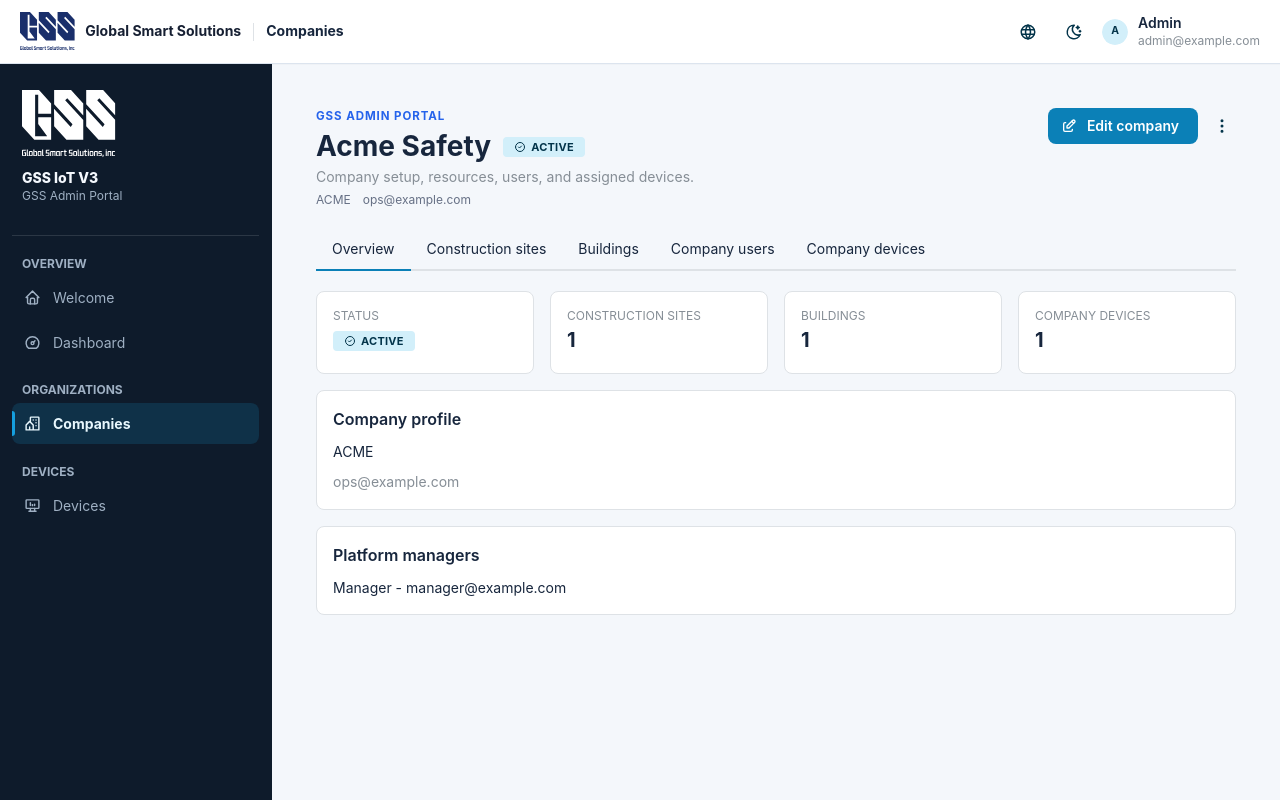
Test case: auth routing › keeps the Admin company workspace mounted while child sections change
Click the tab "Construction sites" at (486, 250), box [411,228,562,270]
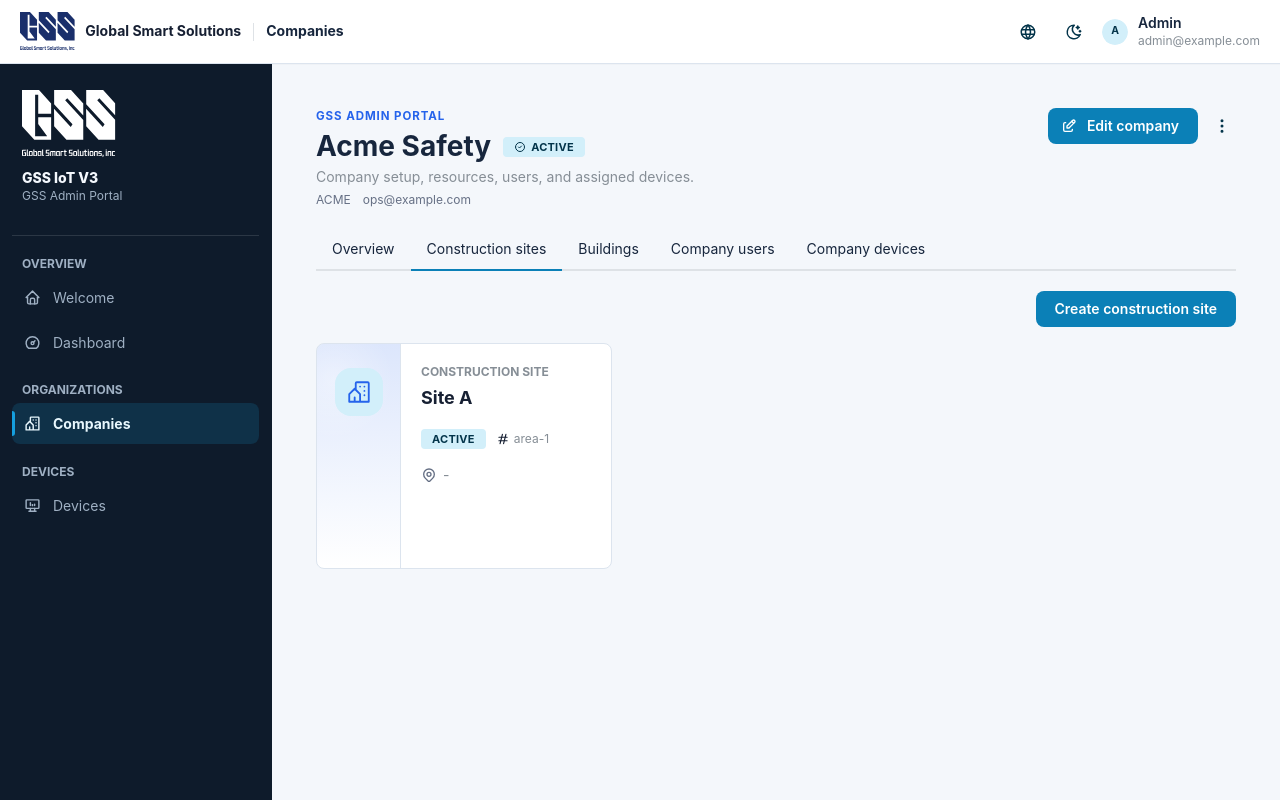
Expected: the text "Site A" is shown, [421,387,472,408]
